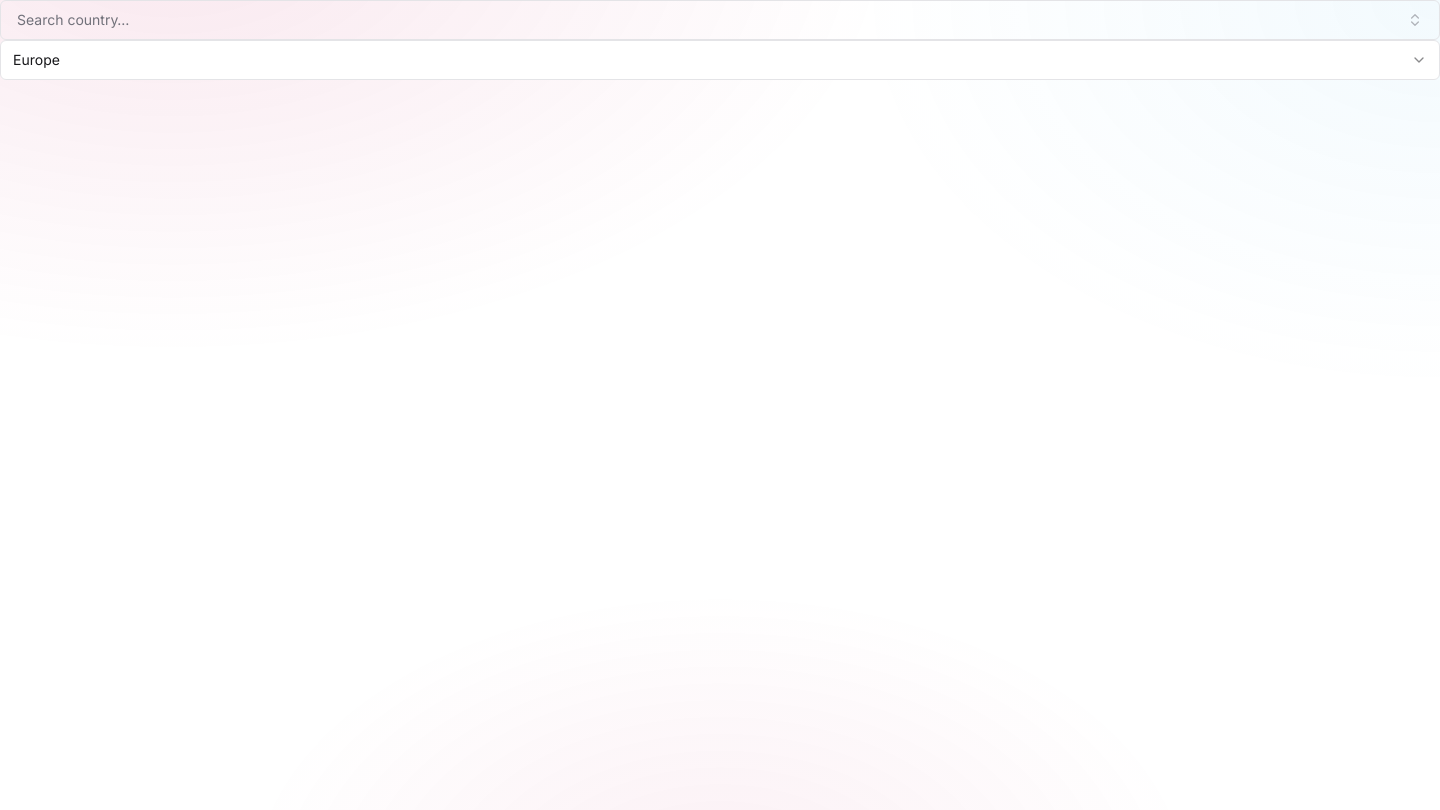
Test: CountryCombobox › selects a country on click, fills region, and does not leave the region dropdown open
This screenshot has width=1440, height=810.
Note: Open country popover
Click the dropdown labelled "Search country…": (73, 20) [0,0,1439,40]
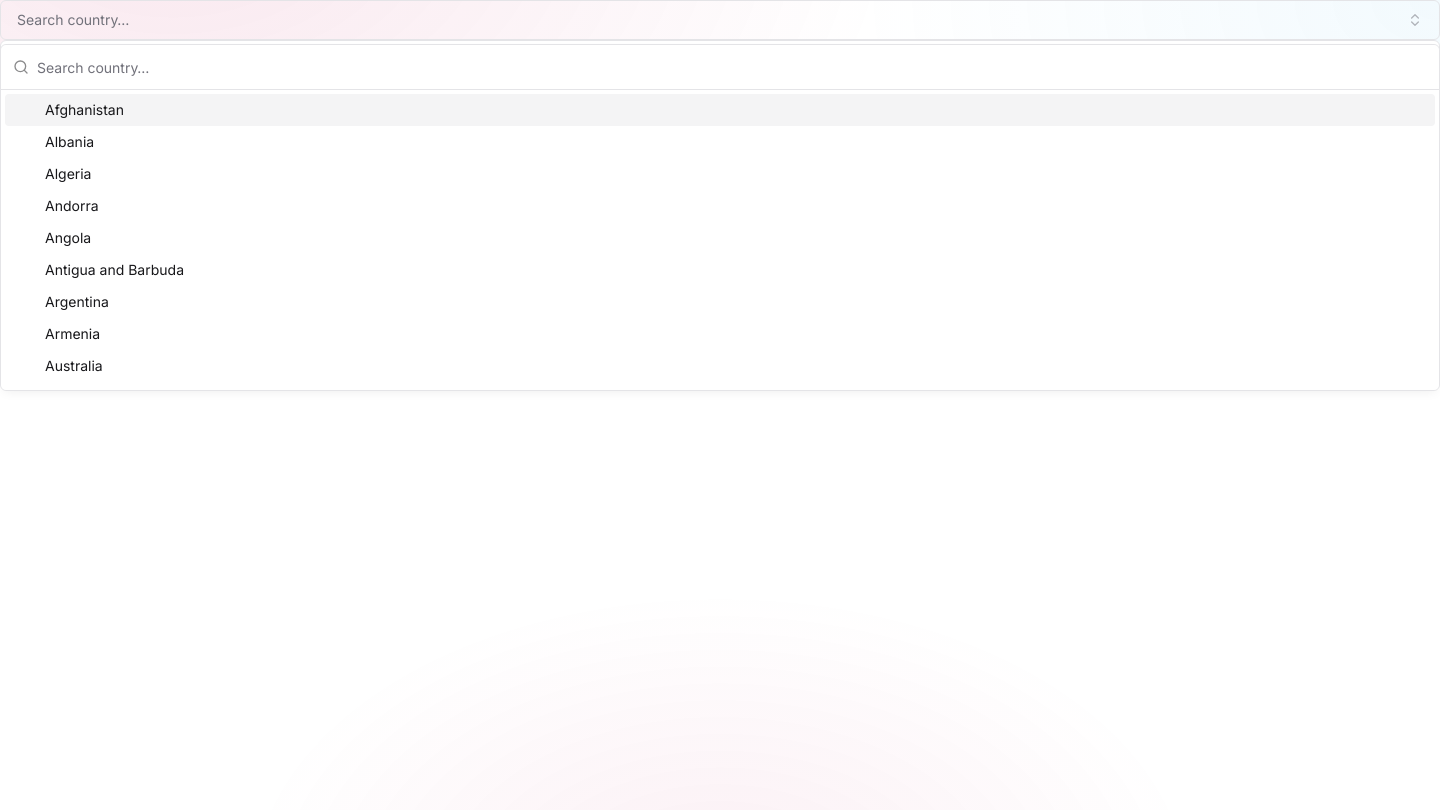
Note: Filter the list
In the 2nd dropdown with placeholder "Search country…": (732, 67) [37,45,1427,89], type "Netherl"
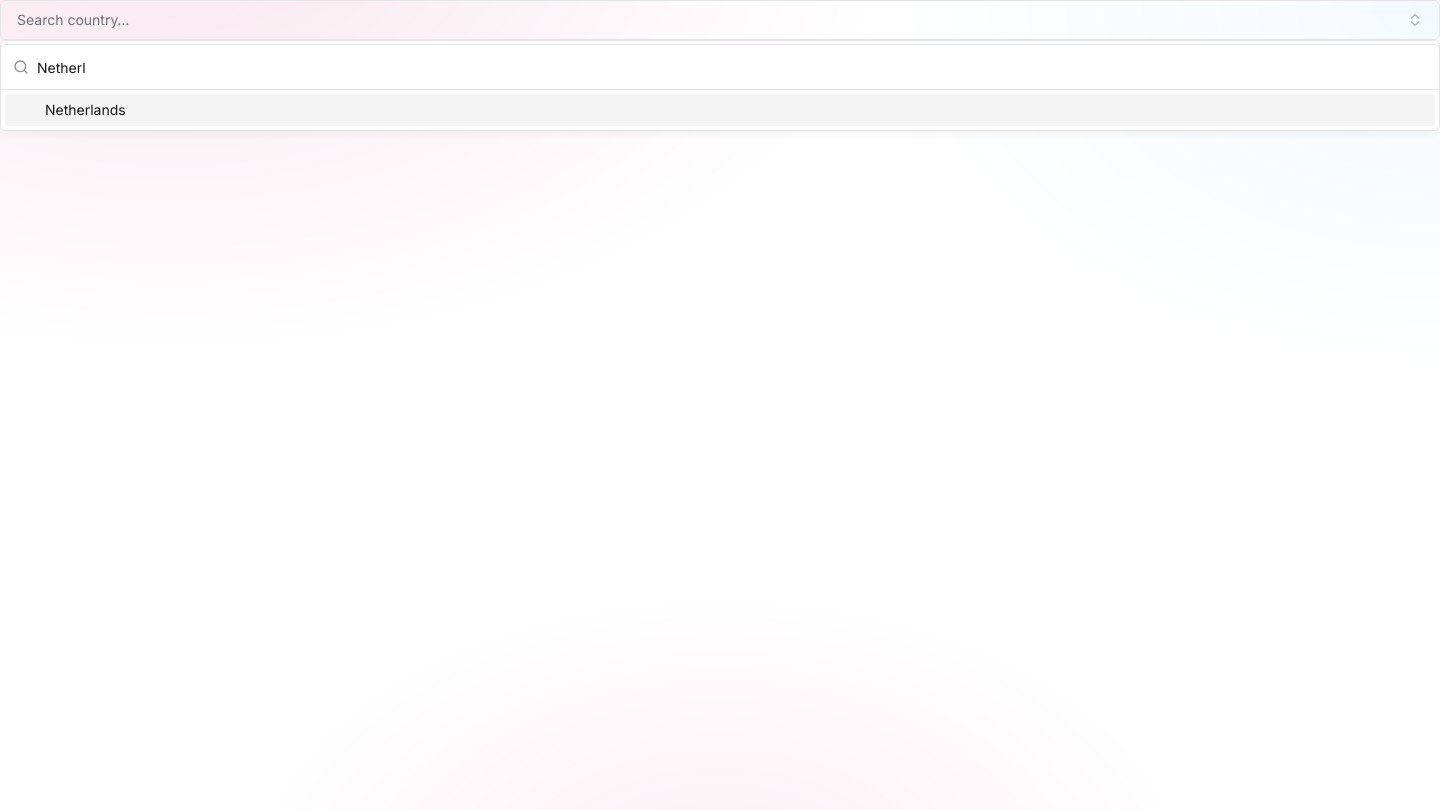
Press the mouse on the option "Netherlands": (85, 110) [5,94,1435,126]
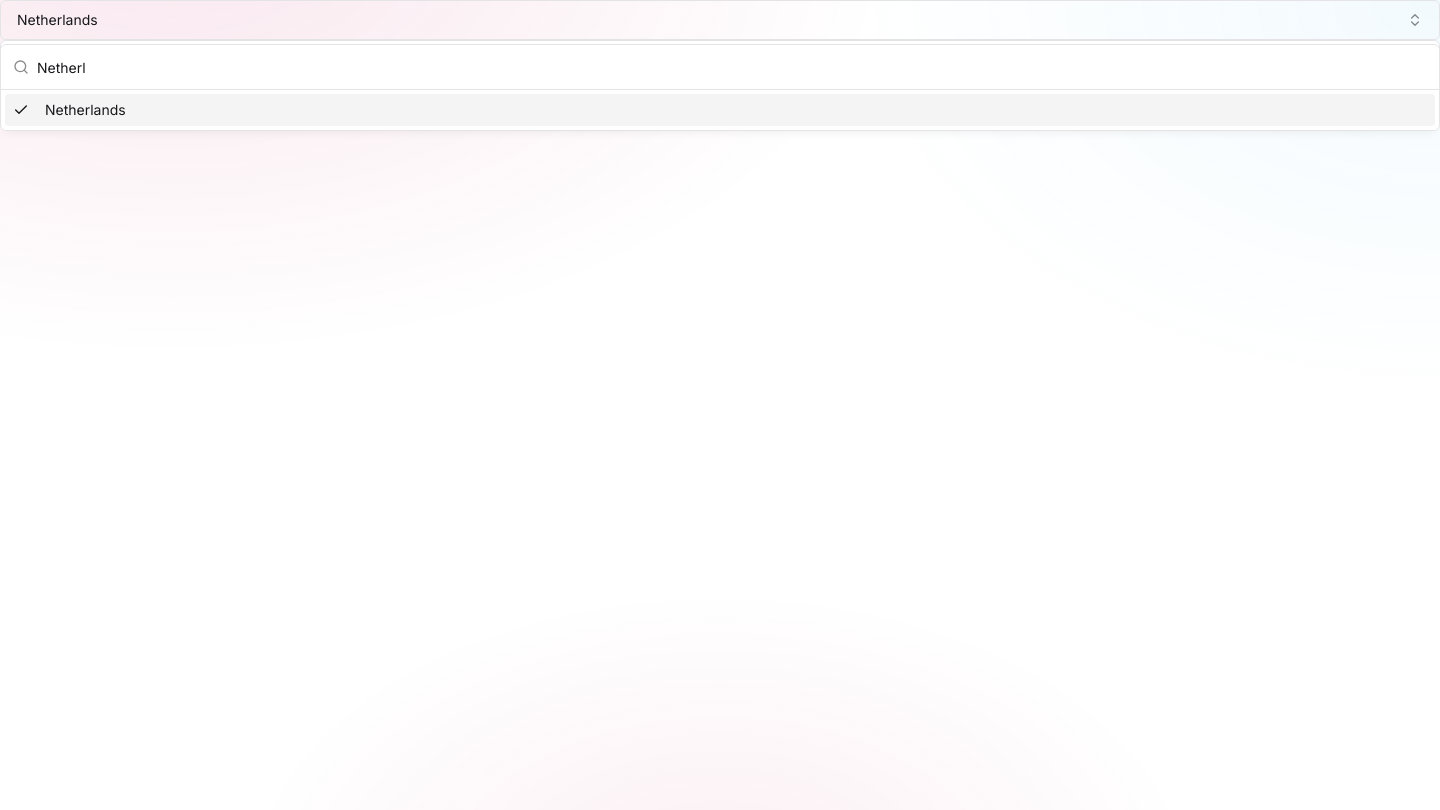
Click the option "Netherlands": (85, 110) [5,94,1435,126]
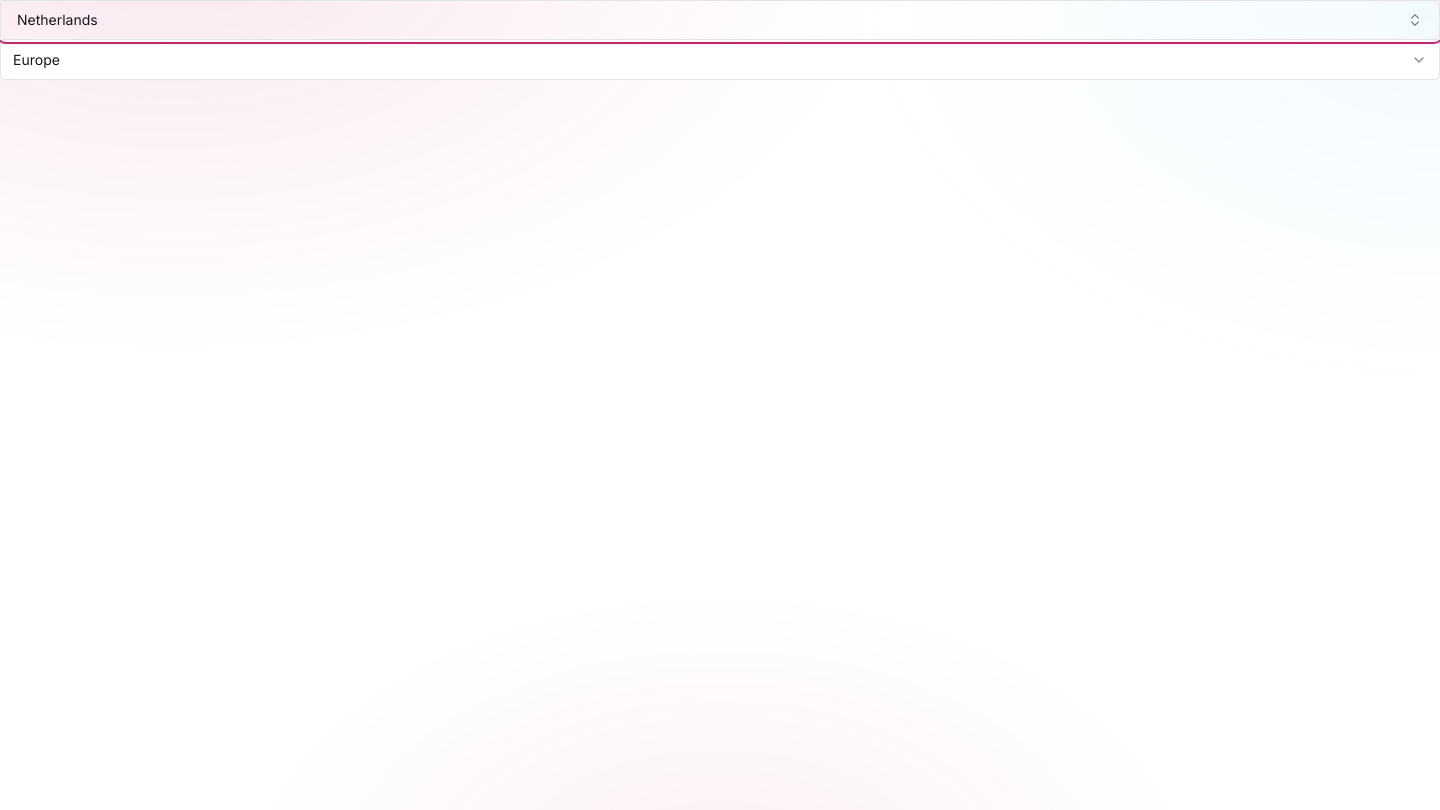
Expected: the dropdown with placeholder "Search country" is not shown
Expected: the dropdown labelled "Netherlands" is shown, [0,0,1439,40]
Expected: the list is gone
